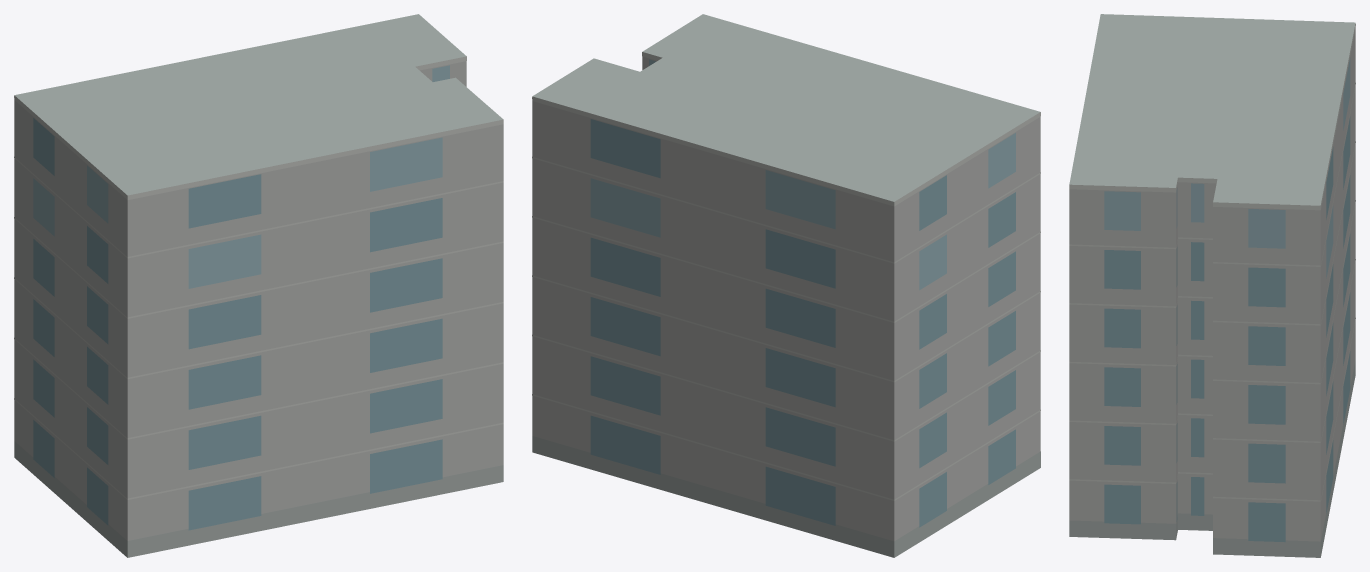
File: survey-upis-32755841.glb
3 views of the same model, side by side, from view 1: azimuth 30°, elevation 25°; view 2: azimuth 150°, elevation 25°; view 3: azimuth 270°, elevation 25° (orthographic). The views are drawn at different scales.
Visible parts, largest first — view 1: survey-upis-32755841.tmp; view 2: survey-upis-32755841.tmp; view 3: survey-upis-32755841.tmp.
Boxes of the visible parts, bbox=[...] form: survey-upis-32755841.tmp: bbox=[14, 14, 503, 557]; survey-upis-32755841.tmp: bbox=[532, 14, 1040, 557]; survey-upis-32755841.tmp: bbox=[1069, 14, 1355, 557].
Size of the model in its own units: 22.1 by 18.9 by 13.96.
